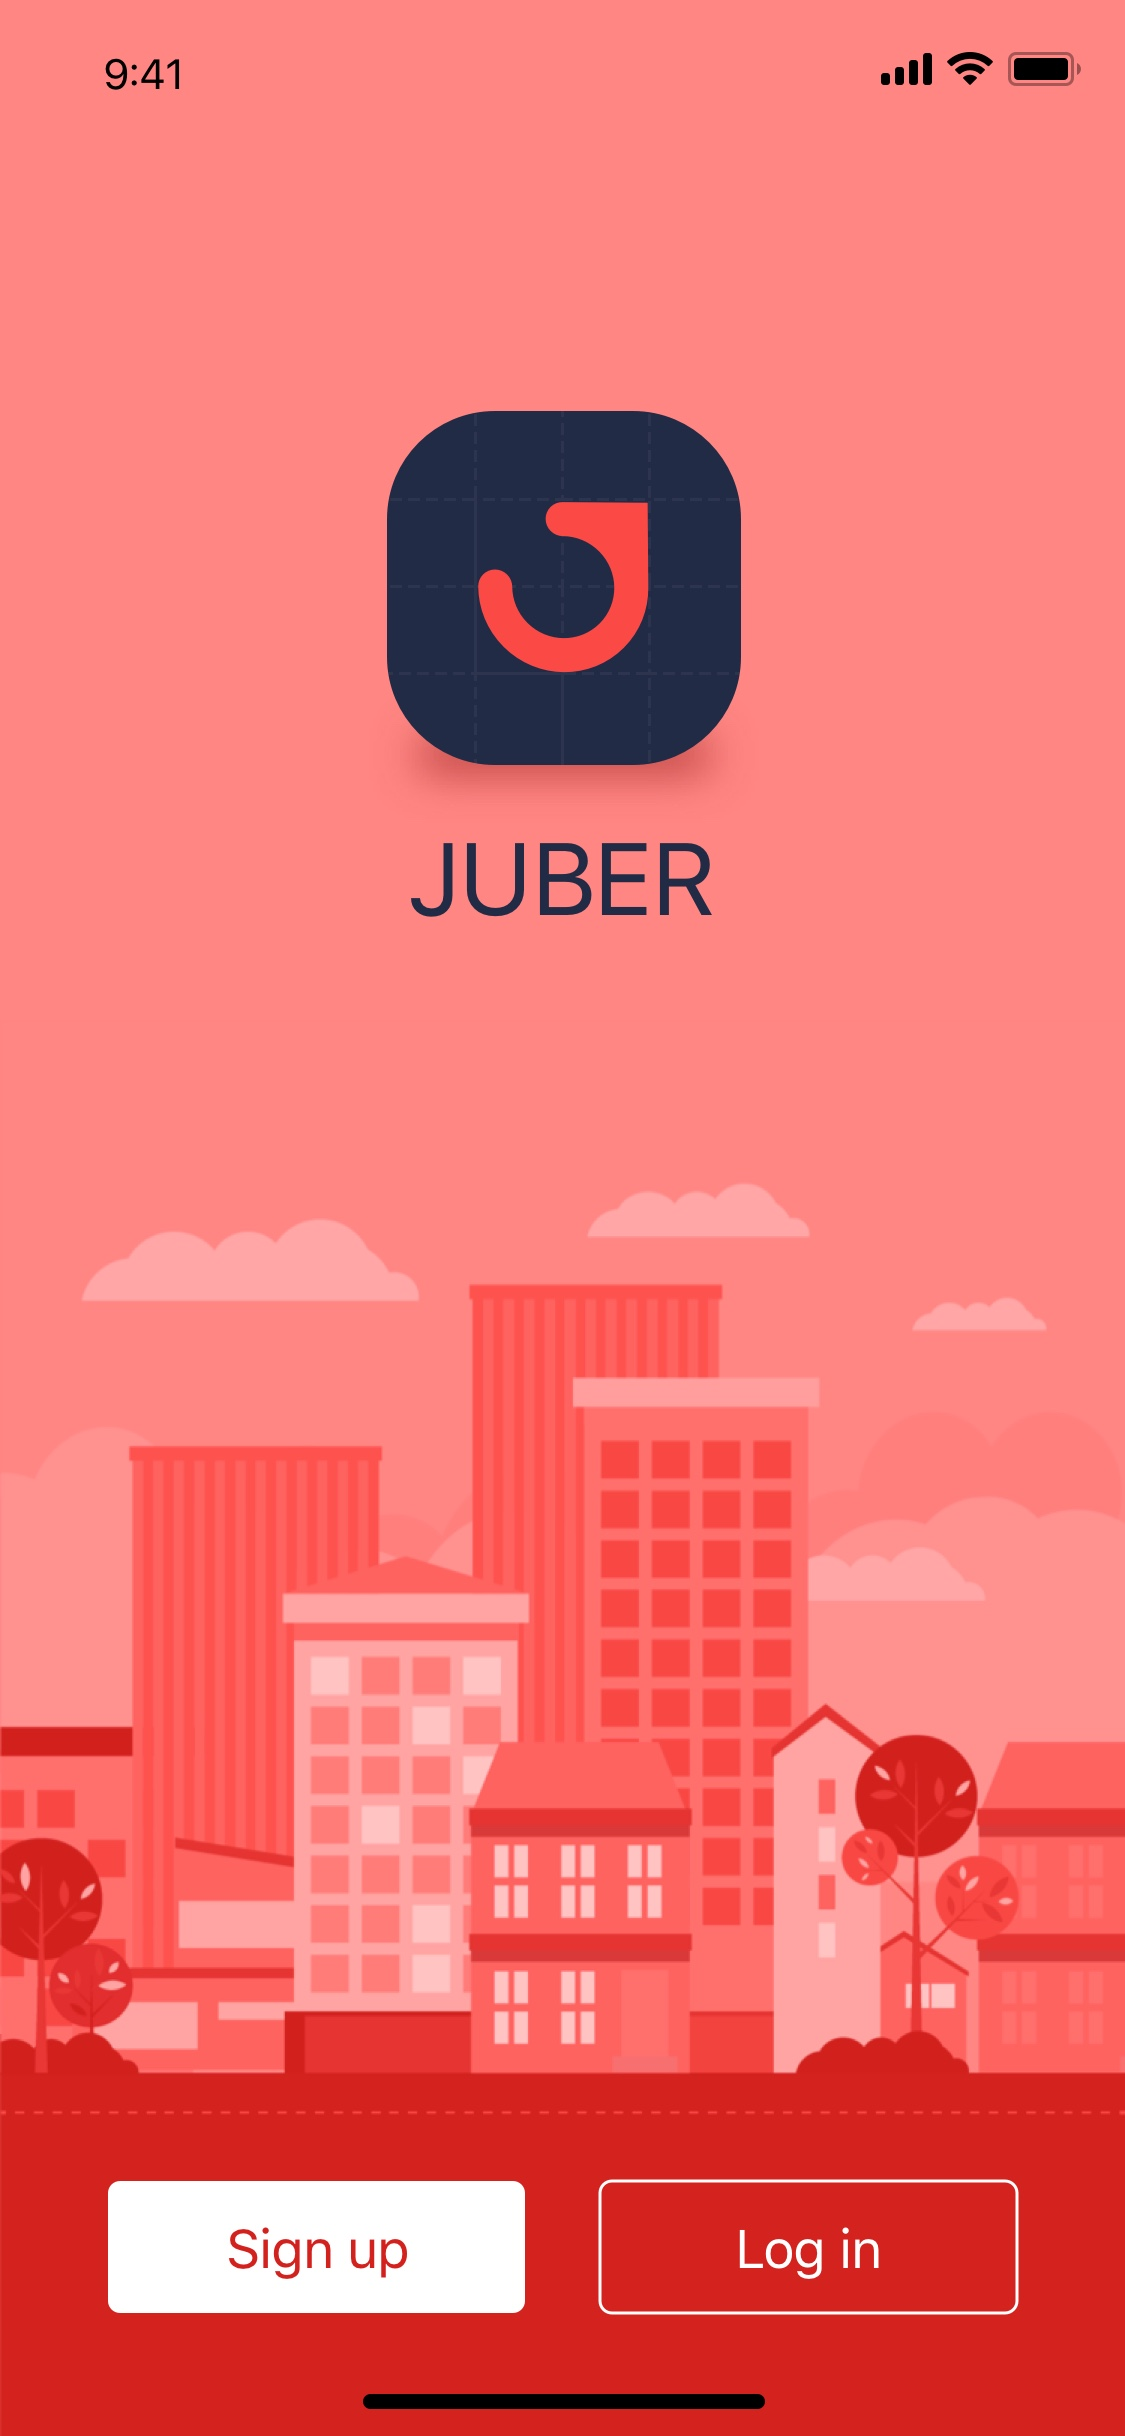Image: (2, 1182, 1125, 2121), (385, 412, 743, 767)
Text: (410, 842, 713, 920)
TextButton: (597, 2178, 1019, 2316), (109, 2180, 527, 2313)
UpperTaskBar: (106, 51, 1081, 92)
